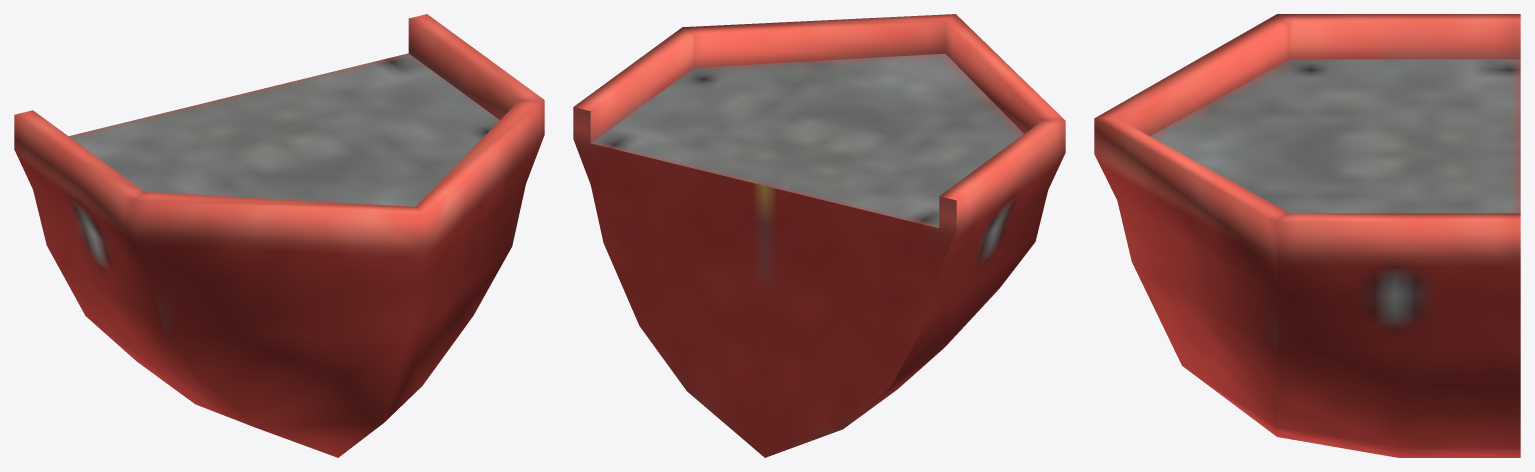
The model's file is BaseSmall2.FBX.
3 views of the same model, side by side, from view 1: azimuth 30°, elevation 25°; view 2: azimuth 150°, elevation 25°; view 3: azimuth 270°, elevation 25° (orthographic). The views are drawn at different scales.
Parts seen in each view (by area): view 1: BaseSmall2; view 2: BaseSmall2; view 3: BaseSmall2.
Part boxes in pixels (box(x1,y1,x2,y2)): BaseSmall2: box(14, 14, 544, 457); BaseSmall2: box(573, 14, 1065, 457); BaseSmall2: box(1094, 14, 1520, 457).
Bounding box in the file's own units: 49.8 × 37.79 × 42.97.
1 material, 1 textured.
